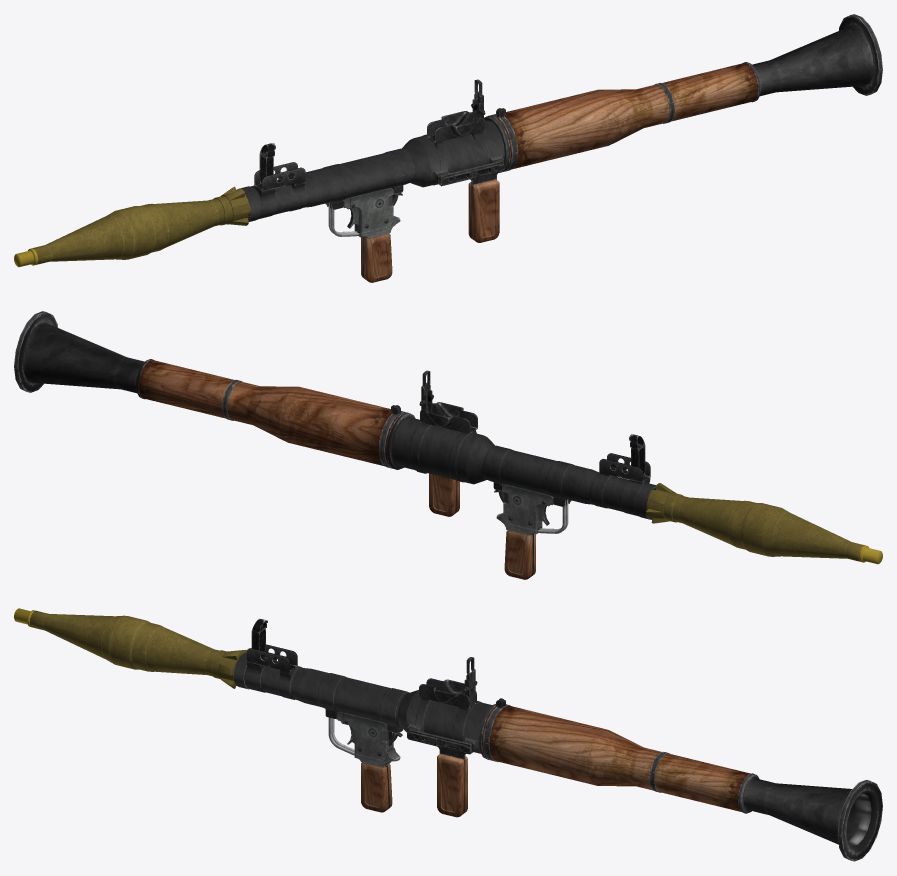
File: RPG-7.gltf
3 views of the same model, one above another, from view 1: azimuth 30°, elevation 25°; view 2: azimuth 150°, elevation 25°; view 3: azimuth 330°, elevation 25° (orthographic).
Visible parts, largest first — view 1: rpg7, rpg7_warhead; view 2: rpg7, rpg7_warhead; view 3: rpg7, rpg7_warhead.
Boxes of the visible parts, x1=… form: rpg7: x1=236, y1=14, x2=882, y2=282; rpg7_warhead: x1=14, y1=186, x2=250, y2=267; rpg7: x1=14, y1=311, x2=656, y2=579; rpg7_warhead: x1=646, y1=483, x2=882, y2=564; rpg7: x1=233, y1=618, x2=882, y2=861; rpg7_warhead: x1=14, y1=608, x2=246, y2=688.
Bounding box in the file's own units: 1.26 × 0.2523 × 0.1066.
2 materials, 2 textured.
